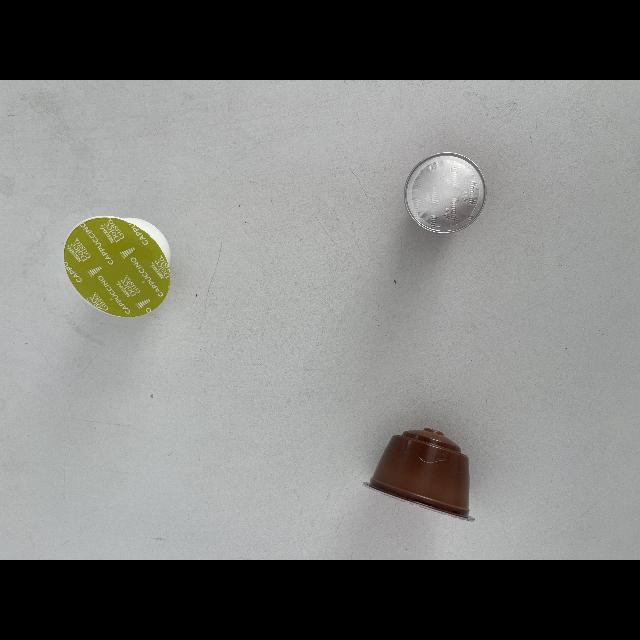intact_capsule: (354, 422, 494, 532), (52, 208, 182, 324), (398, 142, 498, 242)
